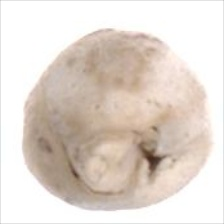L3: (63, 129, 168, 196)
L4: (21, 28, 214, 211)
